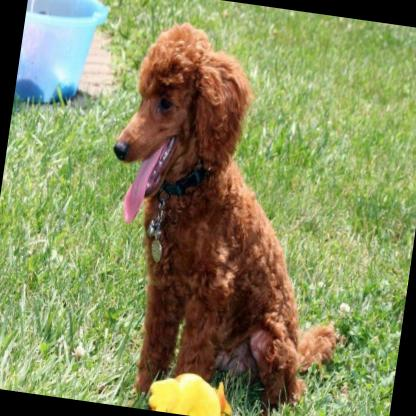miniature_poodle: (78, 13, 379, 416)
